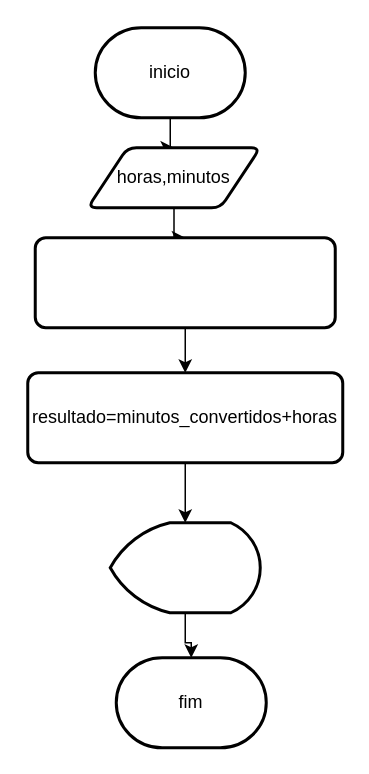
This 369x774 diagram has some shape labels left out. Each missing label, with the centre of its shape:
"minutos_convertidos=minutos/60" goes at point 184,282.
"resultado" goes at point 184,567.
